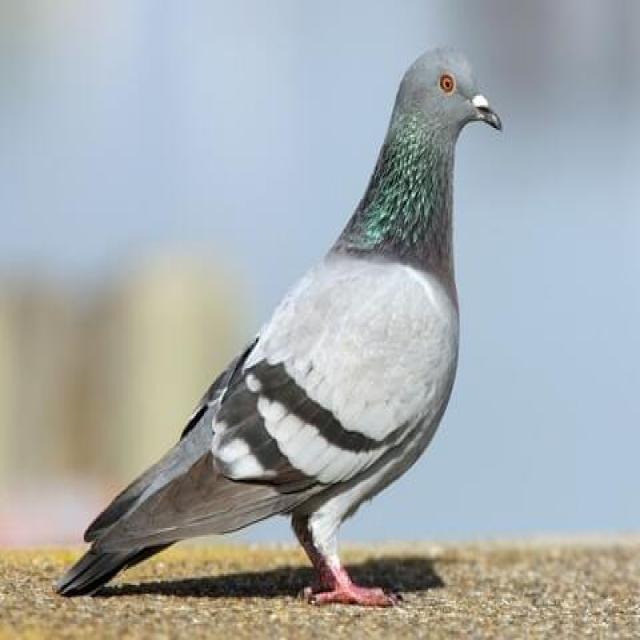Pigeon: (61, 34, 505, 610)
